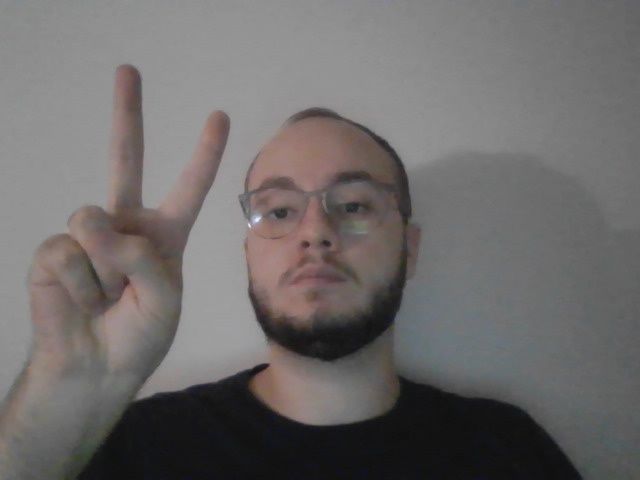Two: (27, 64, 230, 393)
